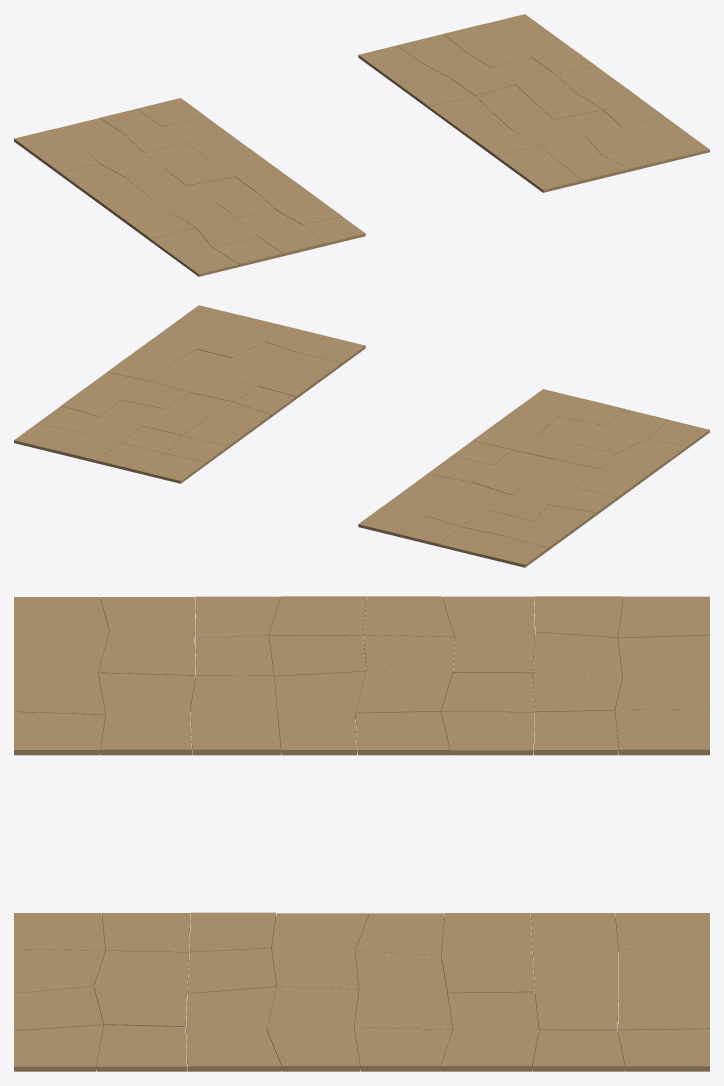
Rendered from Ground1.fbx.
3 views of the same model, one above another, from view 1: azimuth 30°, elevation 25°; view 2: azimuth 150°, elevation 25°; view 3: azimuth 270°, elevation 25° (orthographic). The views are drawn at different scales.
Parts seen in each view (by area): view 1: Dirt0-1_0_0.001; view 2: Dirt0-1_0_0.001; view 3: Dirt0-1_0_0.001.
Boxes of the visible parts, left/top/right/bottom form: Dirt0-1_0_0.001: left=14, top=14, right=709, bottom=276; Dirt0-1_0_0.001: left=14, top=305, right=709, bottom=567; Dirt0-1_0_0.001: left=14, top=596, right=709, bottom=1071.
Bounding box in the file's own units: 14993 × 85.68 × 9394.
